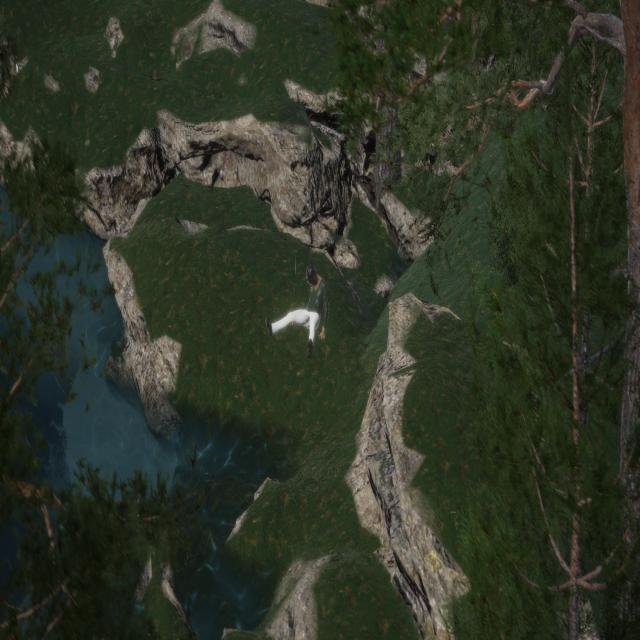Human: (260, 260, 342, 364)
